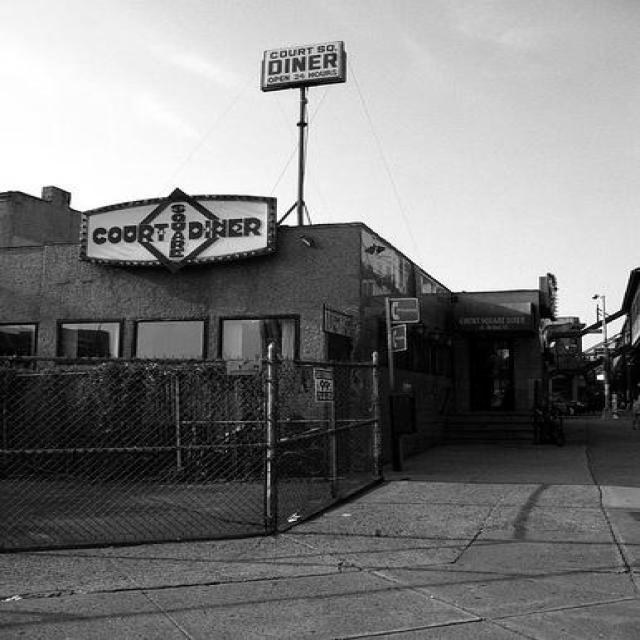vehicle: (560, 401, 586, 417)
